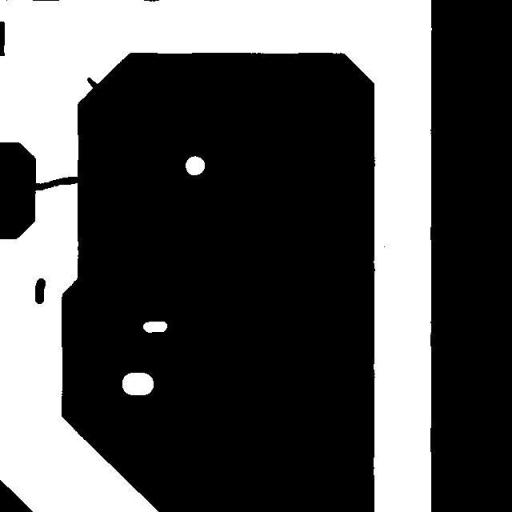copper: (27, 270, 53, 312)
pin-hole: (136, 314, 174, 340)
short: (23, 168, 87, 198)
spur: (79, 70, 106, 98)
